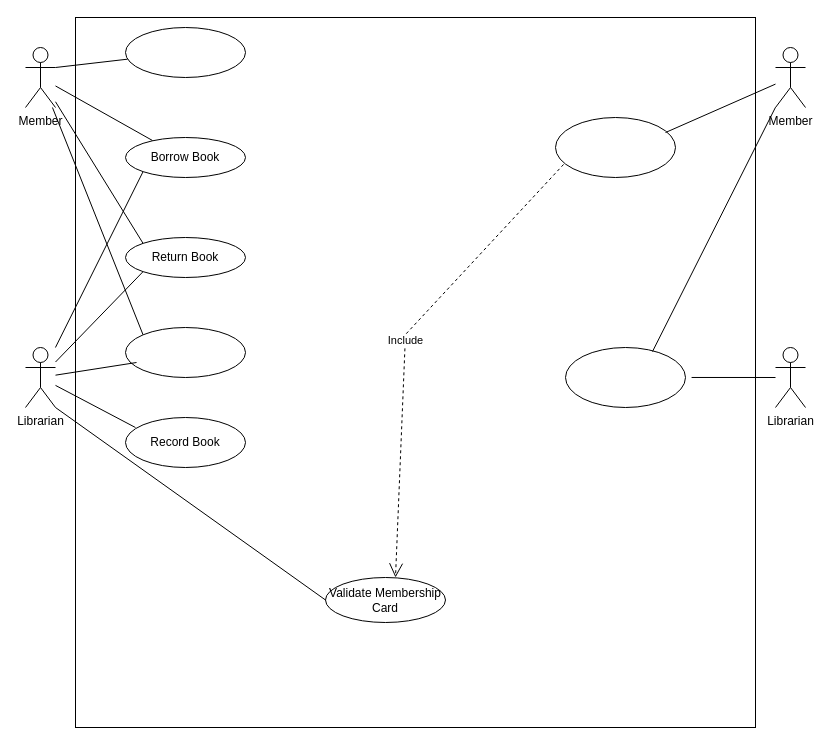
Some shapes in this 831 by 745 pixel diagram are drawn without their labels. The shapes that lost their labels are listed below. From the top down, each one's box as (x1, y1, x2, y2) in pixels, then its label:
(124, 26, 246, 78): Insert Membership card
(554, 116, 676, 178): Reserve Book
(124, 326, 246, 378): Send Return Request
(564, 346, 686, 408): Pay Fine
